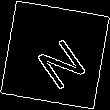N_NW: (24, 22, 86, 88)
